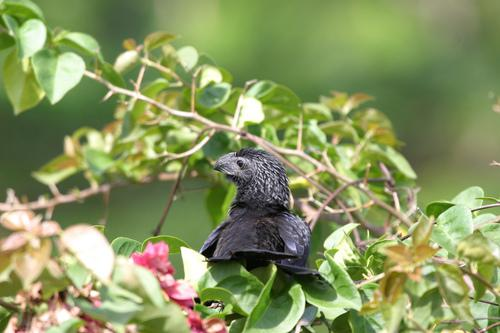004.Groove_billed_Ani: (198, 148, 312, 293)
